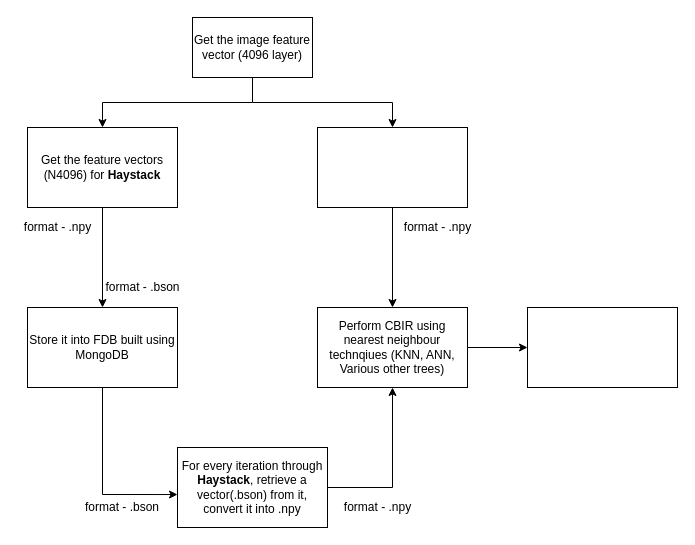
Some shapes in this 695 by 545 pixel diagram are drawn without their labels. Here are the shapes that lost their labels. From the top down, the centre of each, then its label:
At [392,167]: "Get the feature vector for the query image Needle".
At [602,347]: "Store/push the resulting vectors".
